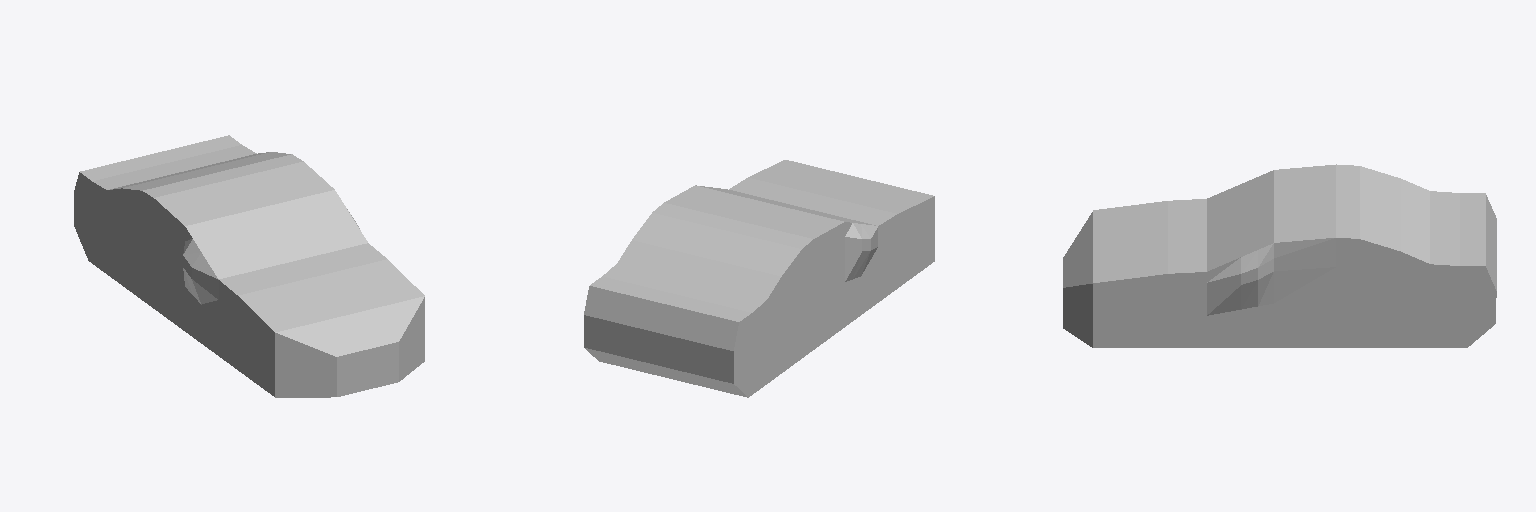
Rendered from SL500_hull.obj.
3 views of the same model, side by side, from view 1: azimuth 30°, elevation 25°; view 2: azimuth 150°, elevation 25°; view 3: azimuth 270°, elevation 25° (orthographic).
Visible parts, largest first — view 1: Cube_Cube.001; view 2: Cube_Cube.001; view 3: Cube_Cube.001.
Boxes of the visible parts, x1,y1,x2,y2 form: Cube_Cube.001: [74, 135, 424, 397]; Cube_Cube.001: [584, 160, 934, 397]; Cube_Cube.001: [1063, 164, 1496, 347].
Bounding box in the file's own units: 7.33 × 4.64 × 16.44.